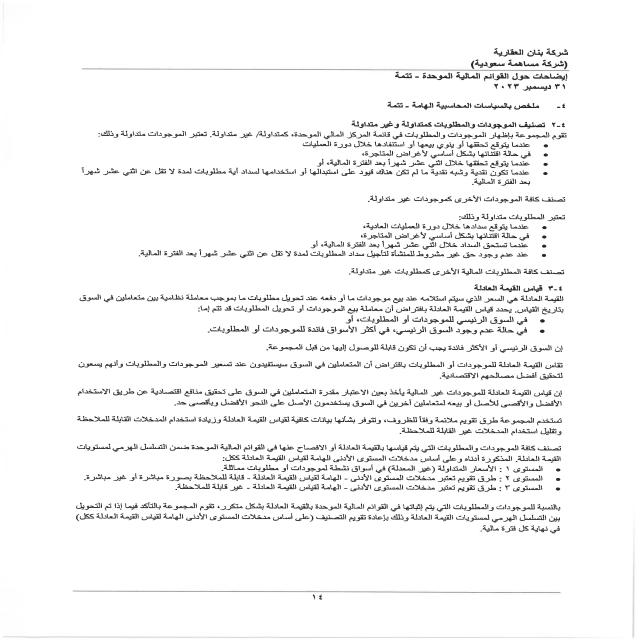notes: (390, 72, 570, 85)
text: (50, 100, 579, 551)
